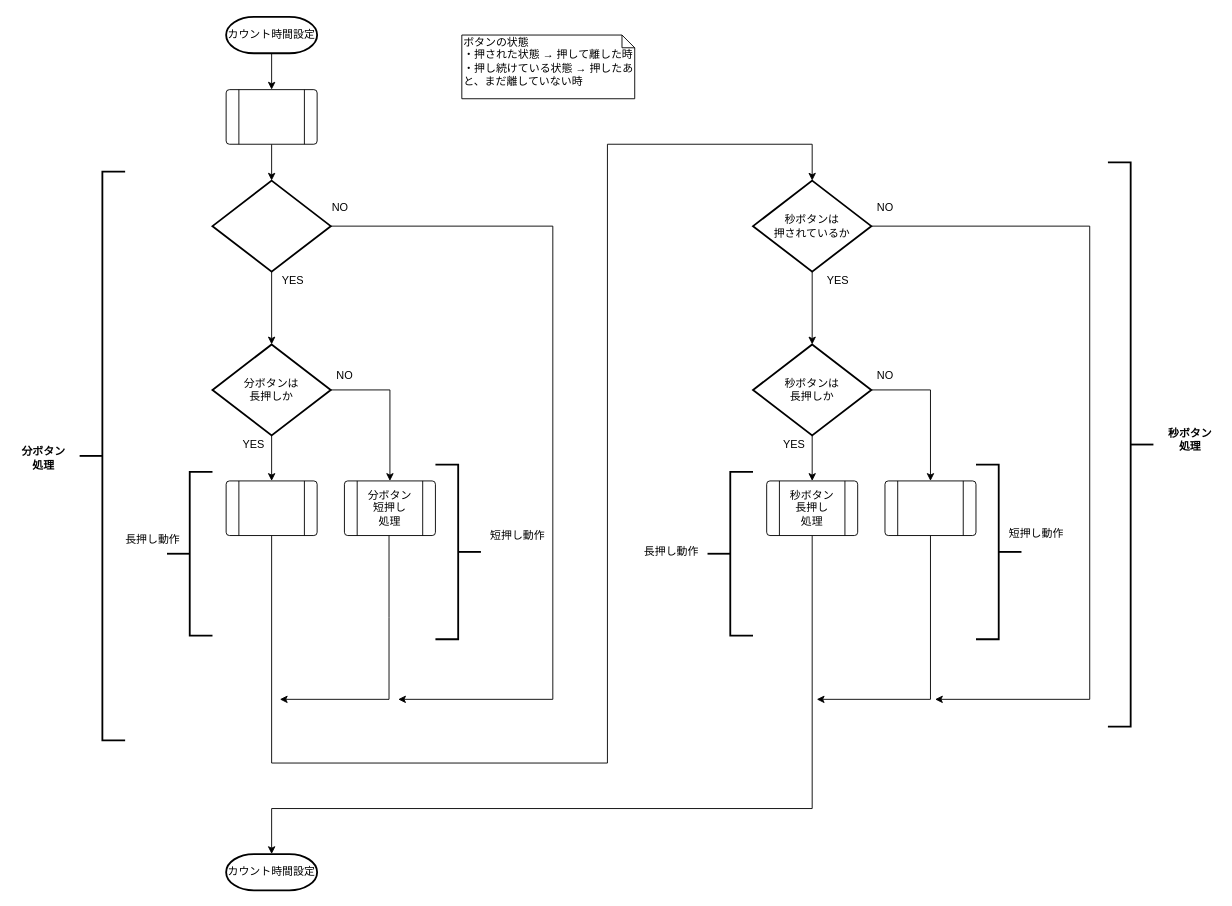
The diagram is 1232 pixels wide and 906 high, and some of its shapes have lost their labels. Here are the shapes that lost their labels. From the top down, the centre of each, then its label:
At point 271,116: "ボタン状態検知".
At point 271,225: "分ボタンは 押されているか".
At point 271,508: "分ボタン 長押し 処理".
At point 930,508: "秒ボタン 短押し 処理".
